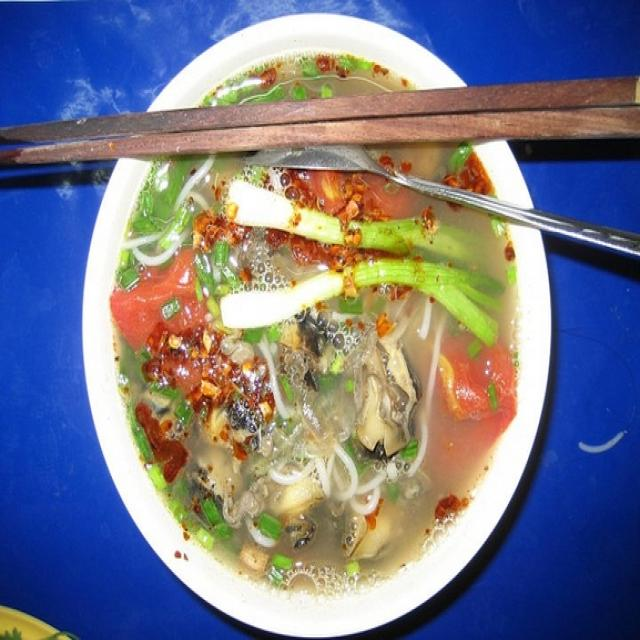面条主食: (60, 17, 576, 624)
